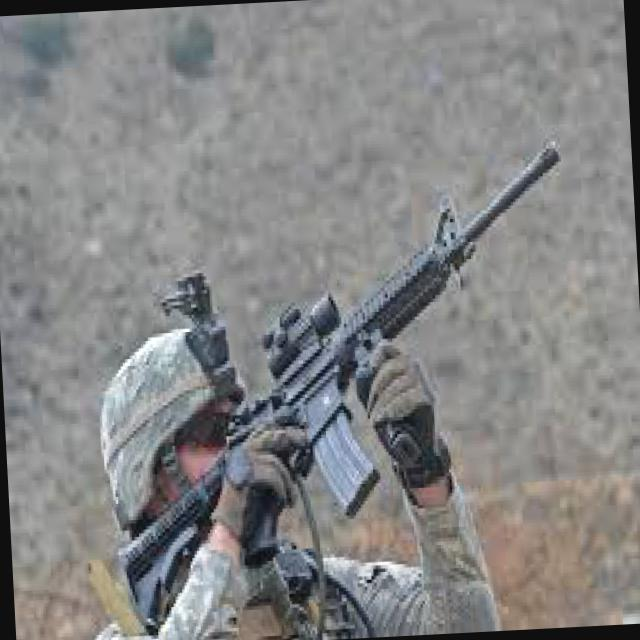long weapon: (243, 135, 605, 528)
